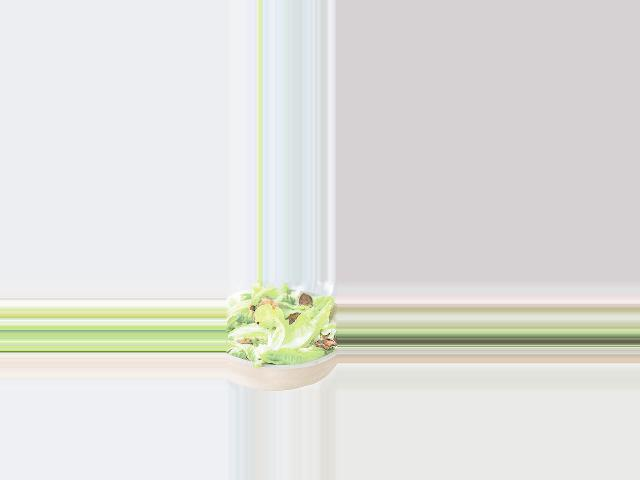lettuce: (232, 287, 326, 365)
